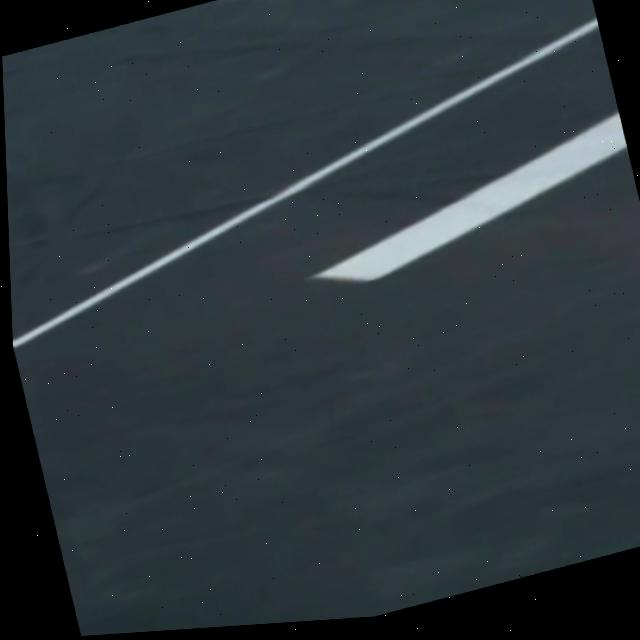center: (312, 112, 627, 281)
